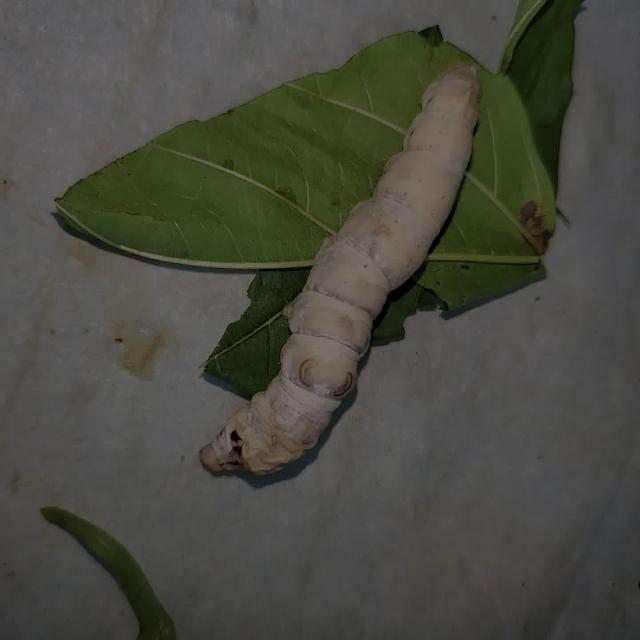Grasserie: (180, 57, 486, 493)
